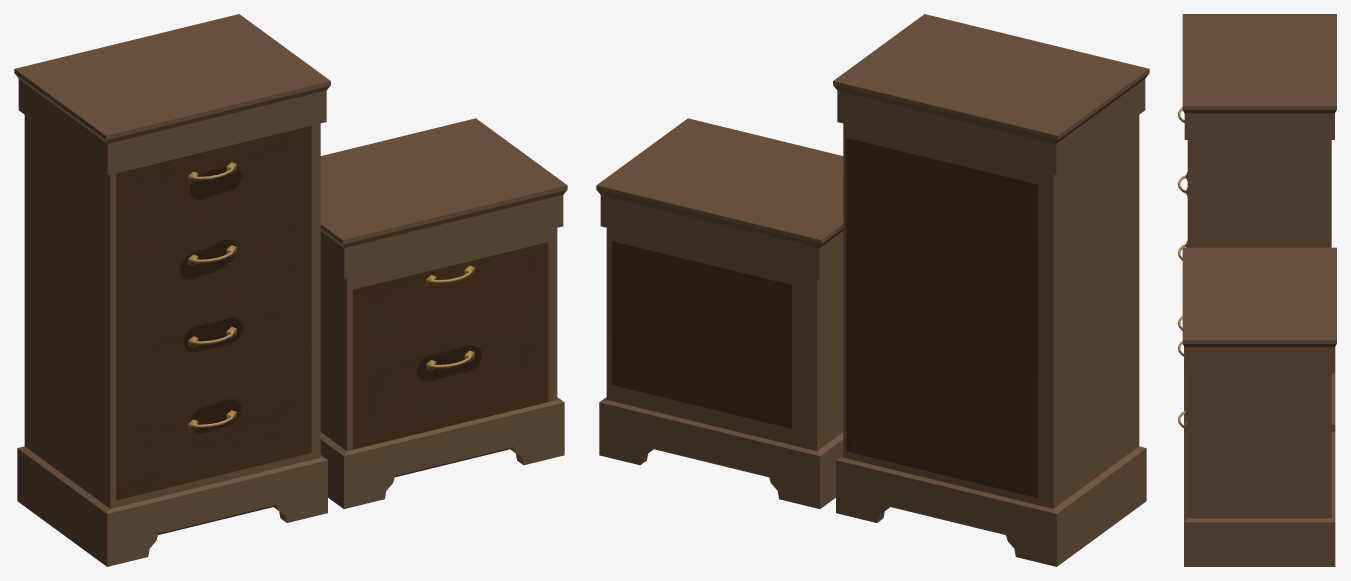
Rendered from headboard_1.fbx.
3 views of the same model, side by side, from view 1: azimuth 30°, elevation 25°; view 2: azimuth 150°, elevation 25°; view 3: azimuth 270°, elevation 25° (orthographic). The views are drawn at different scales.
Visible parts, largest first — view 1: Cube.002, Cube.000; view 2: Cube.002, Cube.000; view 3: Cube.000, Cube.002.
Part boxes in pixels (left/top/right/bottom): Cube.002: left=14, top=14, right=330, bottom=566; Cube.000: left=320, top=118, right=567, bottom=508; Cube.002: left=833, top=14, right=1149, bottom=566; Cube.000: left=596, top=118, right=843, bottom=508; Cube.000: left=1178, top=247, right=1336, bottom=566; Cube.002: left=1178, top=14, right=1336, bottom=431.
Size of the model in its own units: 3356 by 3003 by 1187.
